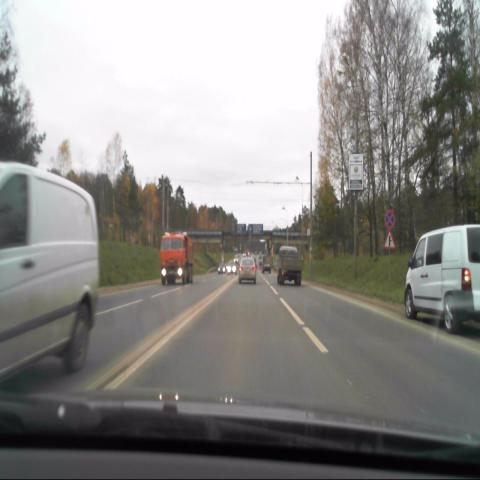2_3_2: (383, 231, 395, 250)
